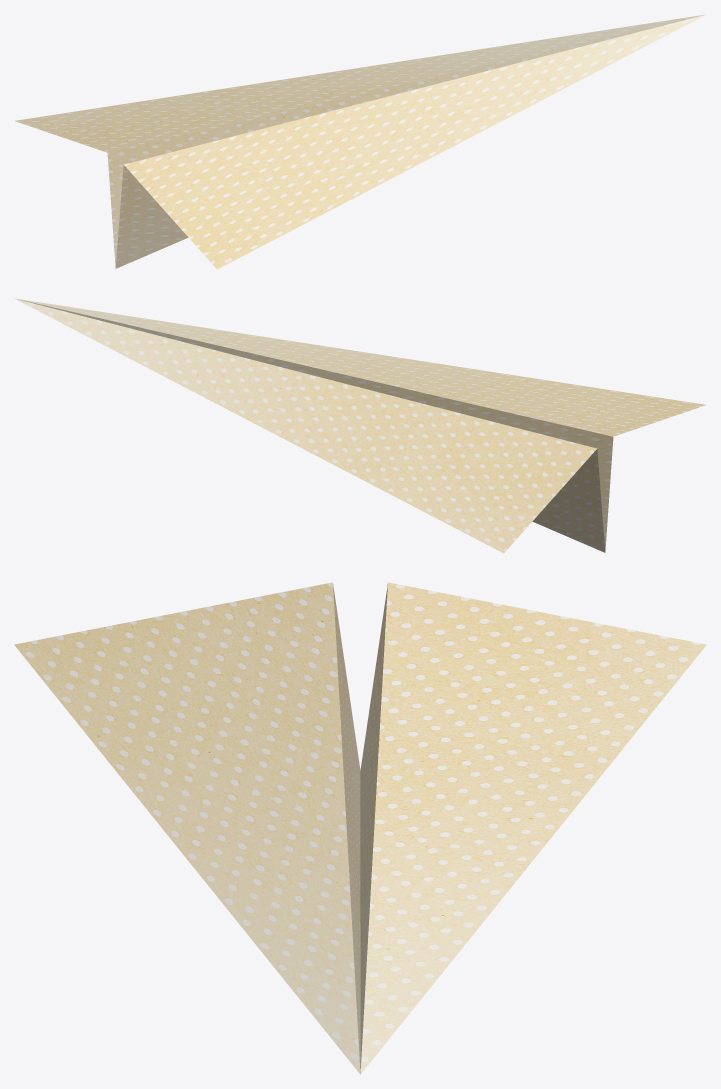
3 views of the same model, one above another, from view 1: azimuth 30°, elevation 25°; view 2: azimuth 150°, elevation 25°; view 3: azimuth 270°, elevation 25° (orthographic). The views are drawn at different scales.
Parts seen in each view (by area): view 1: Plane; view 2: Plane; view 3: Plane.
Boxes of the visible parts, box(x1,y1,x2,y2) form: Plane: box(15, 14, 706, 269); Plane: box(14, 298, 705, 553); Plane: box(14, 582, 706, 1074).
Bounding box in the file's own units: 0.5529 × 0.0986 × 0.3289.
Materials: 1 (1 with a texture image).
